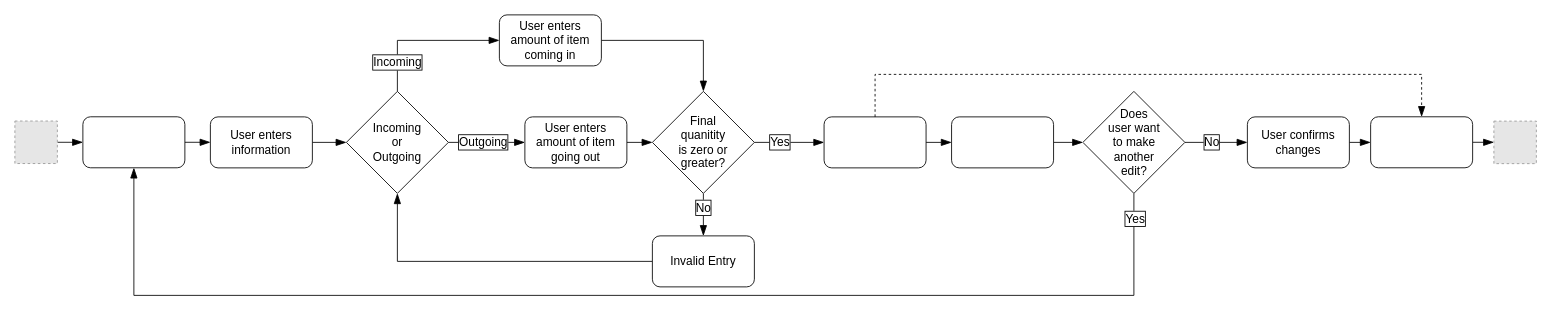
Some shapes in this 1551 by 320 pixel diagram are drawn without their labels. Grey dashed boxes stand in for pictures. The centre of each missing label's shape, as x and y in pixels:
Change is added to "export.csv": (x=874, y=142)
Database entry is updated: (x=1421, y=142)
User goes back to Item view: (x=1002, y=142)
User goes to view Item details: (x=133, y=142)
